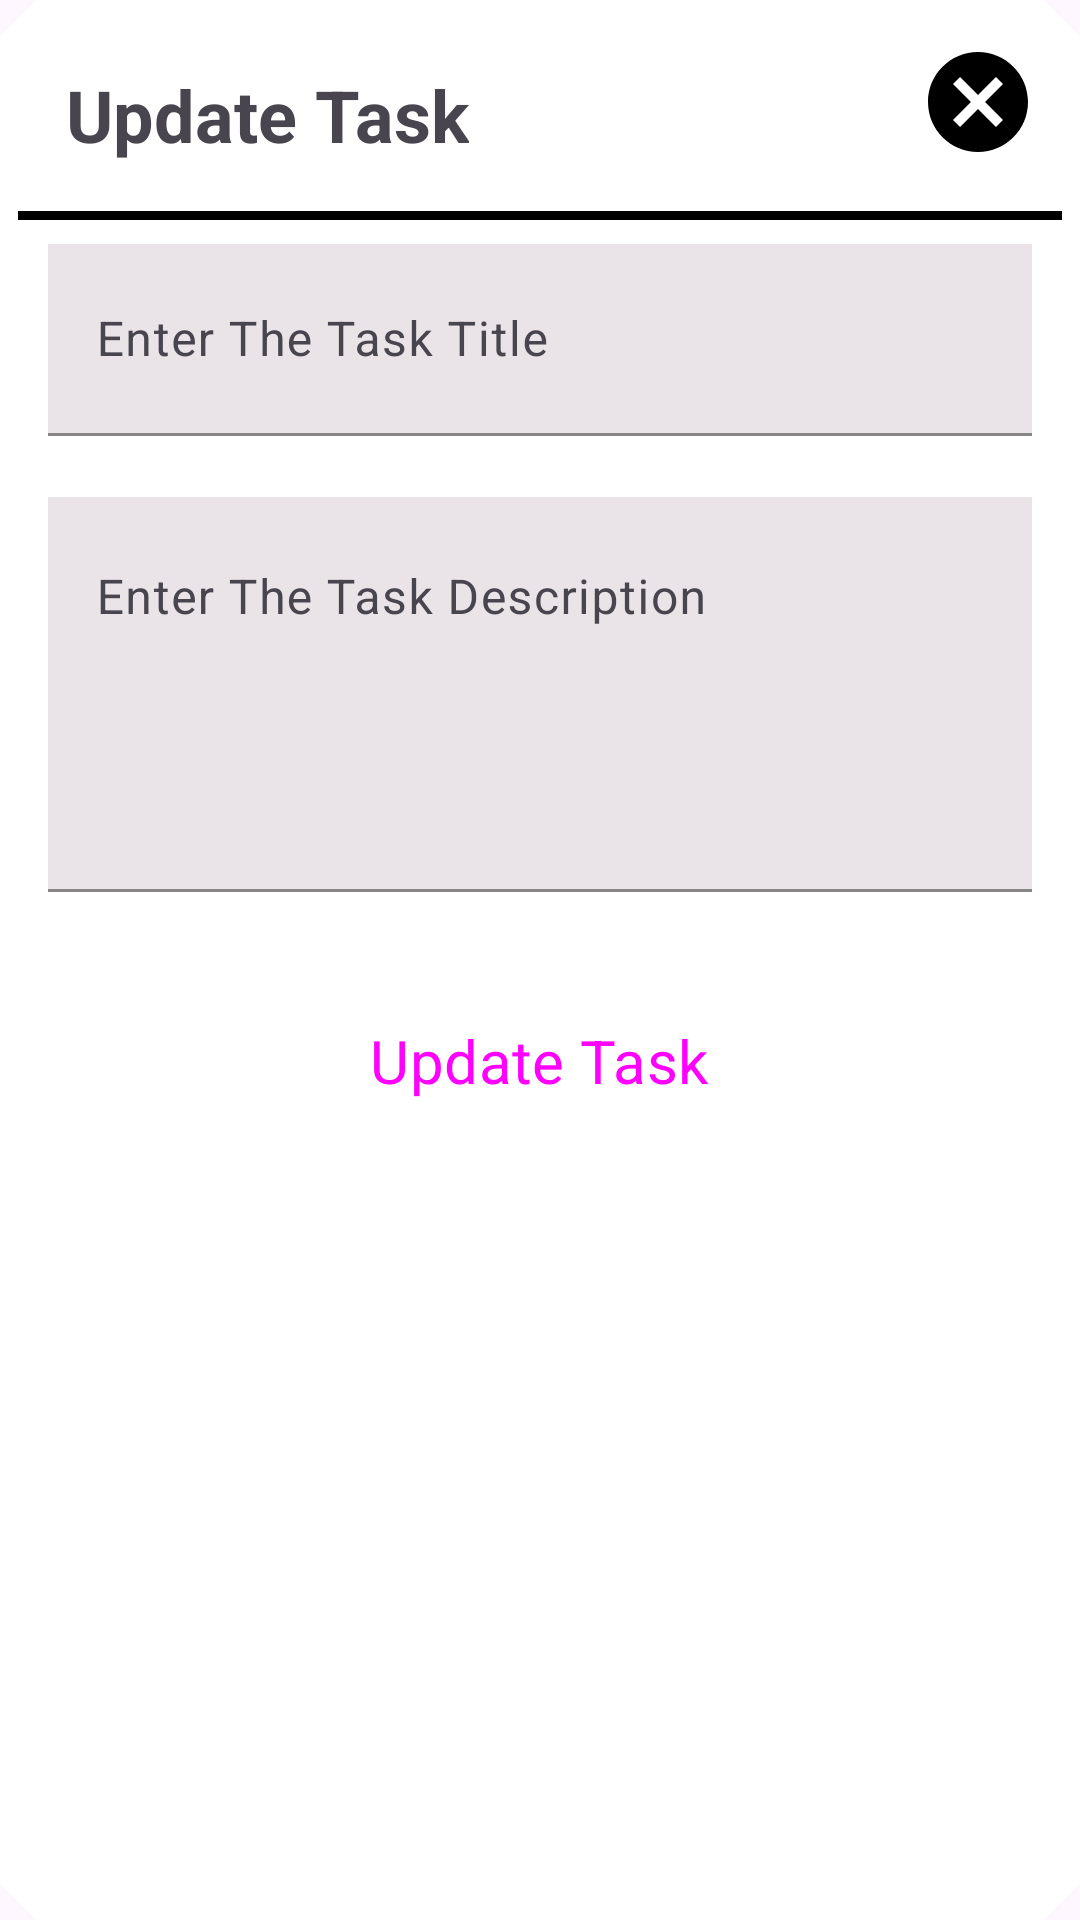

Locate icon controls on the screen. Image size 1080 × 1920, boxes as box=[x1, y1, x2, y2].
close: box=[928, 52, 1028, 152]
